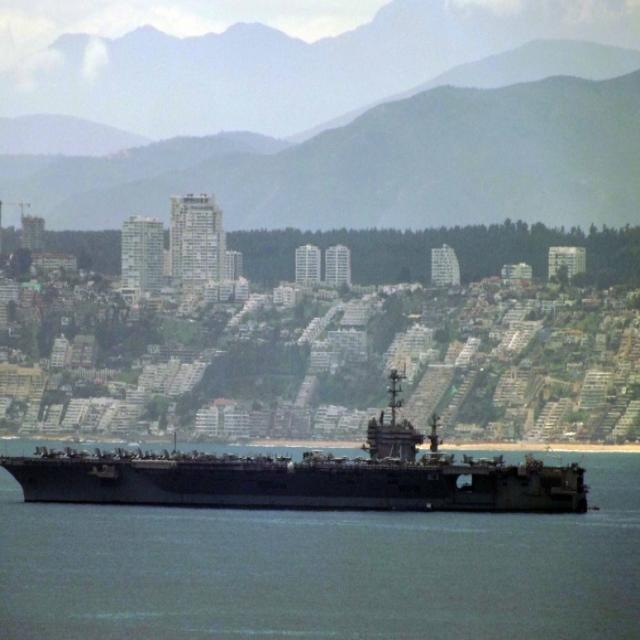Portanaves: (1, 360, 596, 521)
